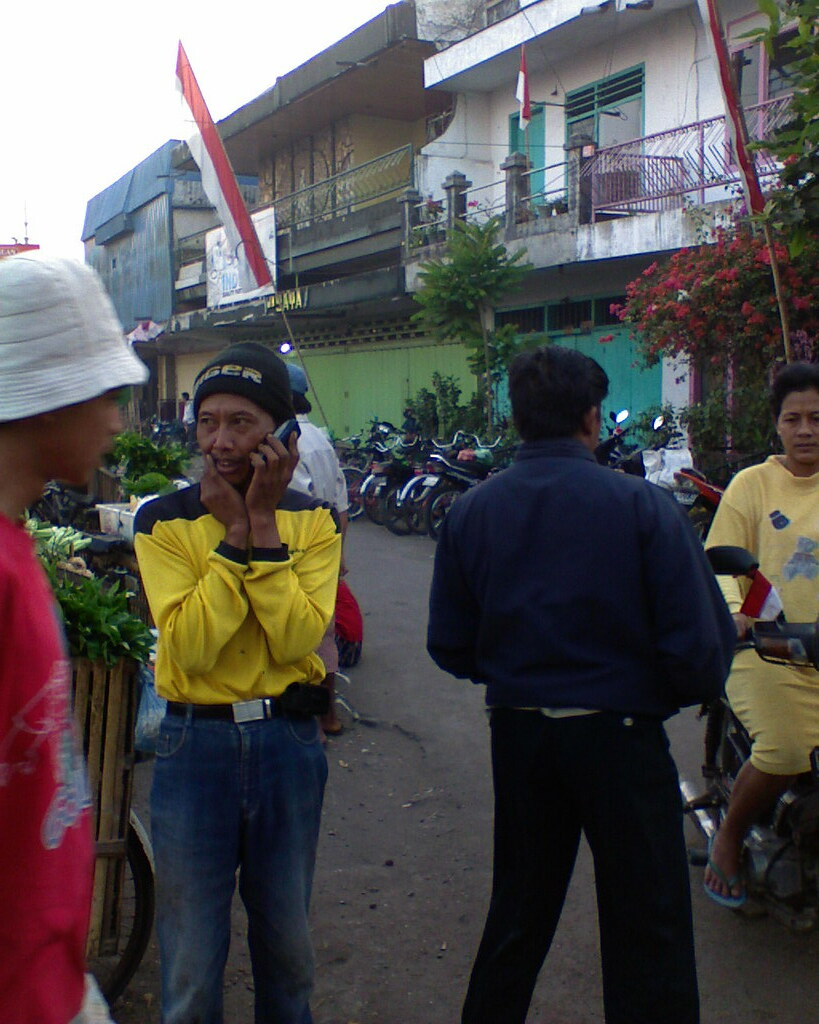phone: (248, 408, 309, 488)
talk: (200, 402, 317, 507)
